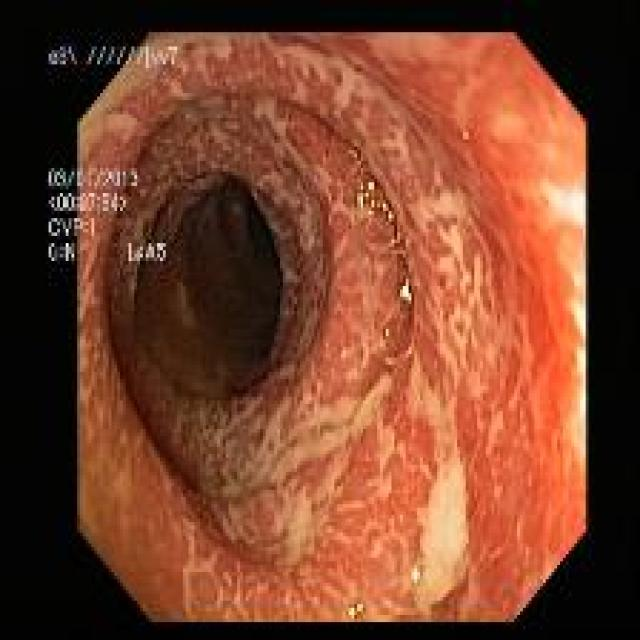ulcerative-colitis: (78, 33, 586, 622)
